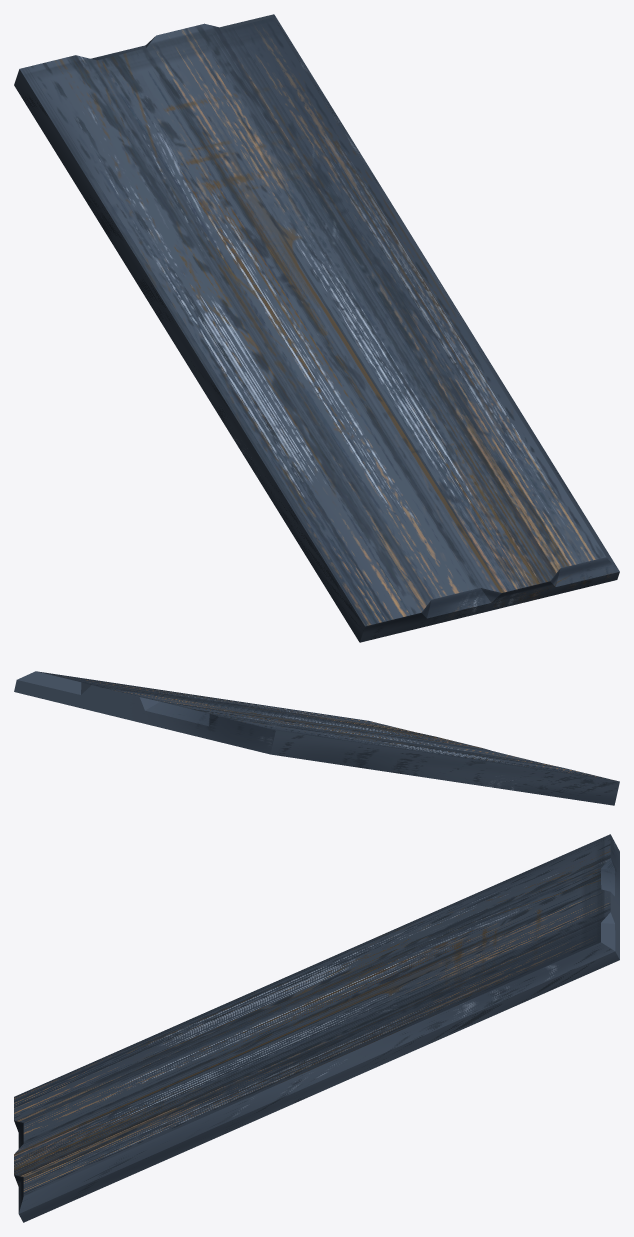
The model's file is Plank_Corrugated.fbx.
The picture shows the model from 3 angles, top to bottom: view 1: azimuth 30°, elevation 25°; view 2: azimuth 150°, elevation 25°; view 3: azimuth 270°, elevation 25°; orthographic projection. The views are drawn at different scales.
Parts seen in each view (by area): view 1: Plank_Corrugated1:Plank_Corrugated:pCube1; view 2: Plank_Corrugated1:Plank_Corrugated:pCube1; view 3: Plank_Corrugated1:Plank_Corrugated:pCube1.
Part boxes in pixels (left/top/right/bottom): Plank_Corrugated1:Plank_Corrugated:pCube1: left=14, top=14, right=619, bottom=642; Plank_Corrugated1:Plank_Corrugated:pCube1: left=14, top=671, right=619, bottom=805; Plank_Corrugated1:Plank_Corrugated:pCube1: left=14, top=834, right=619, bottom=1222.
Size of the model in its own units: 7.57 by 9.12 by 17.87.
